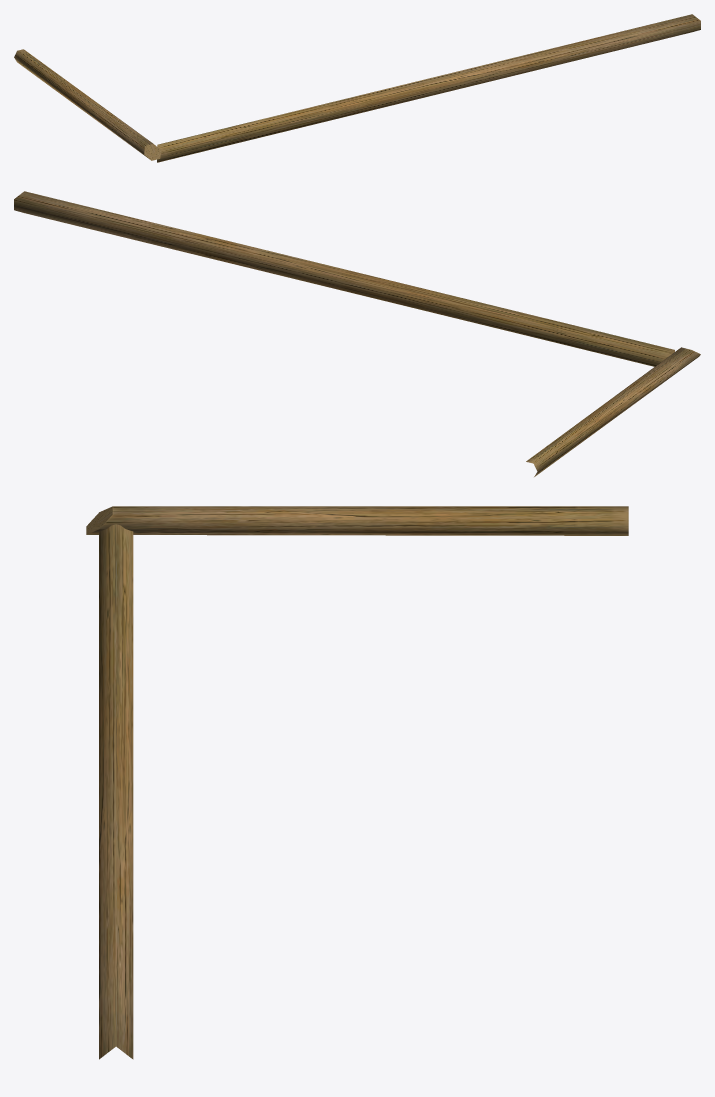
File: M7Z1_CityWall3A3_Poles.glb
The picture shows the model from 3 angles, top to bottom: view 1: azimuth 30°, elevation 25°; view 2: azimuth 150°, elevation 25°; view 3: azimuth 270°, elevation 25°; orthographic projection. The views are drawn at different scales.
Visible parts, largest first — view 1: M7Z1_CITYWALL3A3_POLES; view 2: M7Z1_CITYWALL3A3_POLES; view 3: M7Z1_CITYWALL3A3_POLES.
Boxes of the visible parts, x1,y1,x2,y2 form: M7Z1_CITYWALL3A3_POLES: [14, 14, 700, 162]; M7Z1_CITYWALL3A3_POLES: [14, 191, 700, 476]; M7Z1_CITYWALL3A3_POLES: [86, 506, 628, 1059].
Bounding box in the file's own units: 8.06 × 0.293 × 3.4.
1 material, 1 textured.
